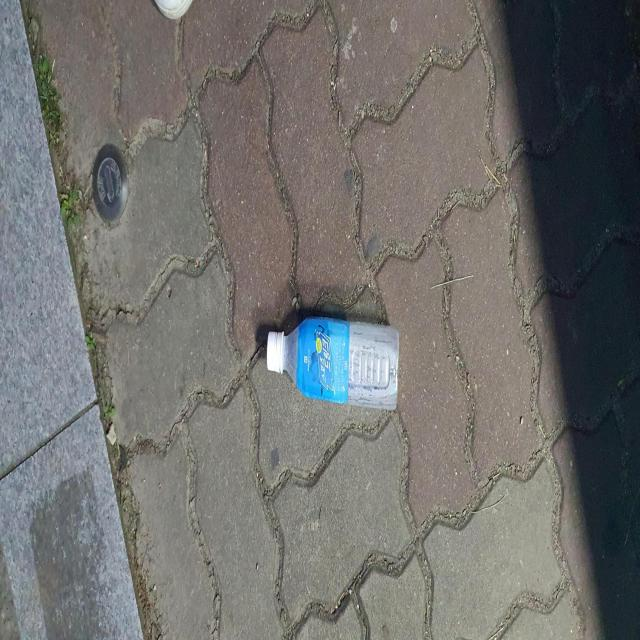plastic: (266, 317, 399, 409)
